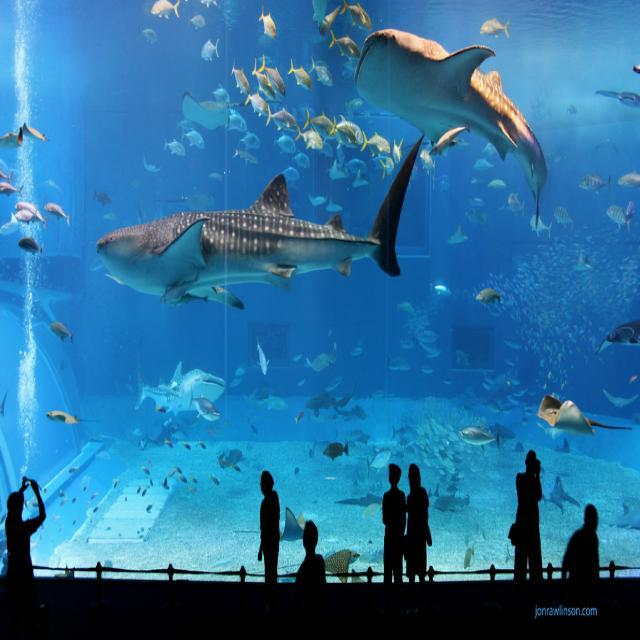Shark: (96, 132, 422, 310), (352, 28, 550, 228), (136, 360, 224, 410)
